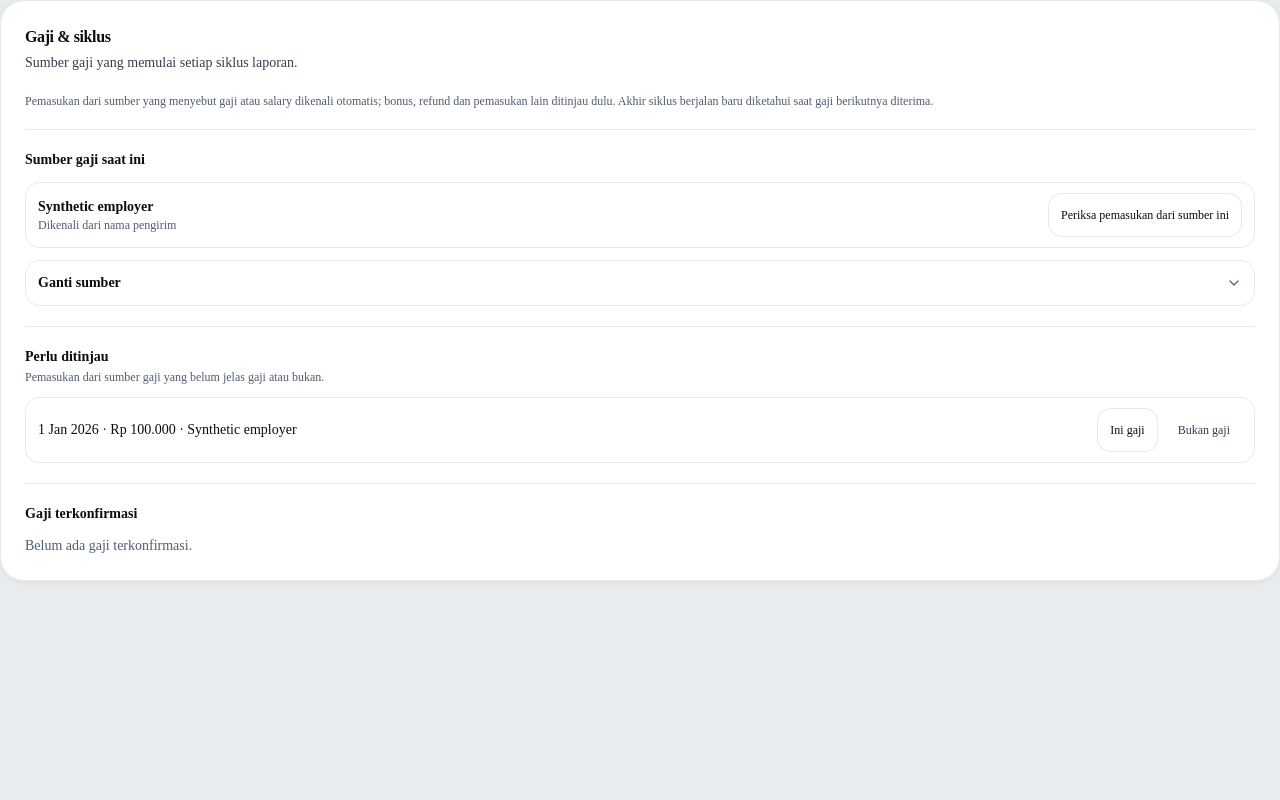
Test case: shows a same-day conflict refusal as an alert
The width and height of the screenshot is (1280, 800).
Click the button with aria-label "Konfirmasi gaji: " at (1127, 430), box [1097,408,1158,452]
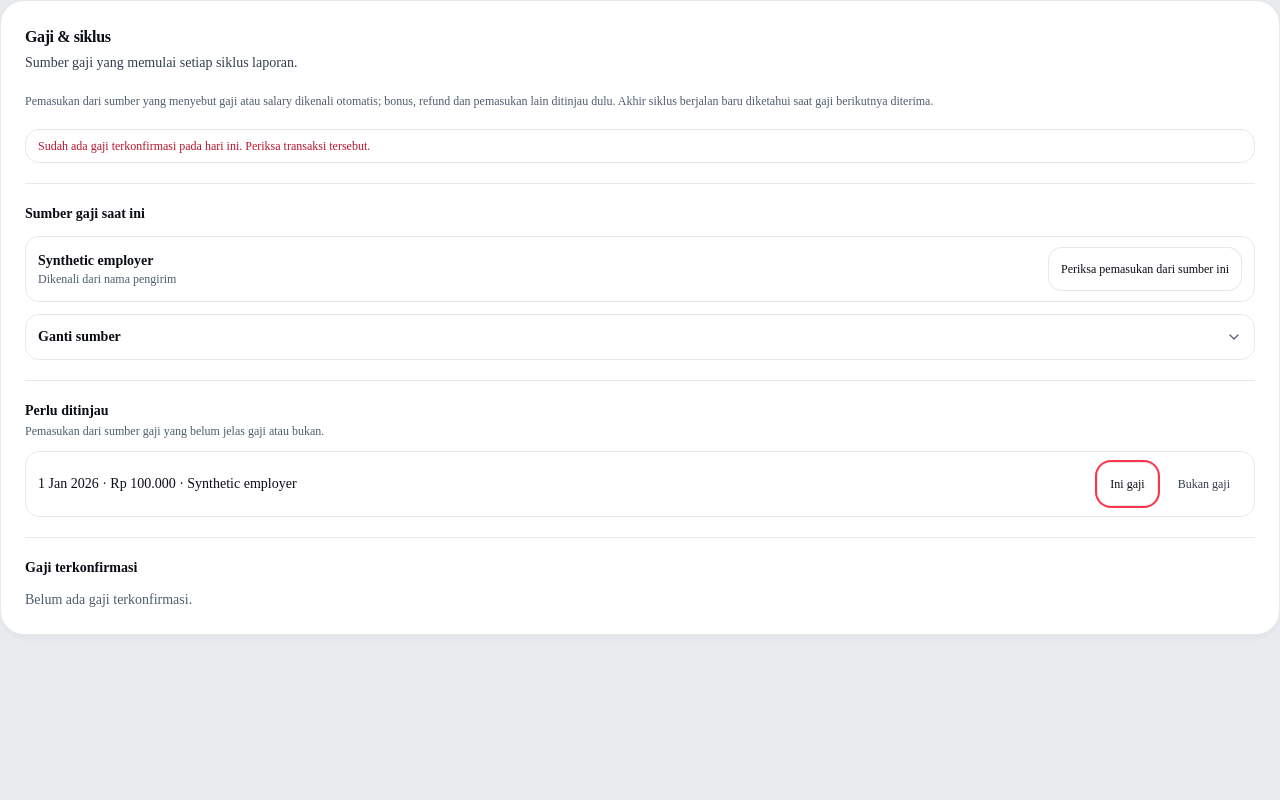
Expected: the message shows "Sudah ada gaji terkonfirmasi pada hari ini", [38,139,370,153]
